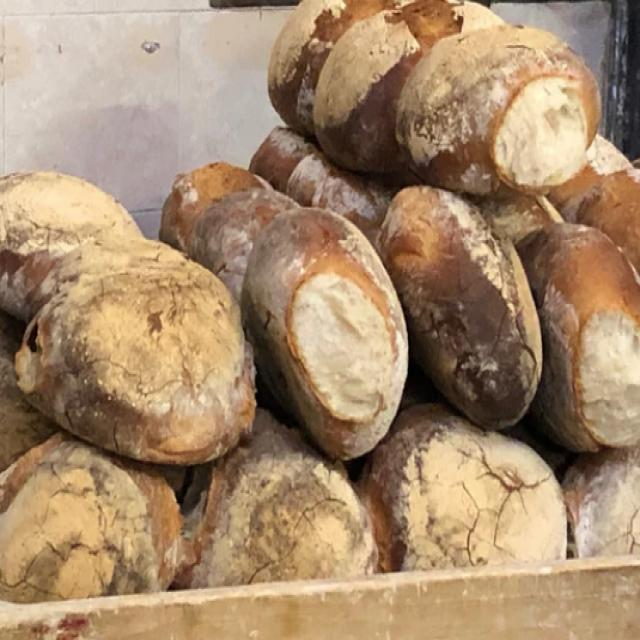Maltese-Bread: (16, 243, 254, 461), (242, 207, 407, 460), (377, 185, 541, 429), (176, 409, 376, 588), (358, 403, 565, 570), (395, 25, 598, 195), (0, 435, 179, 601), (519, 224, 639, 451)
